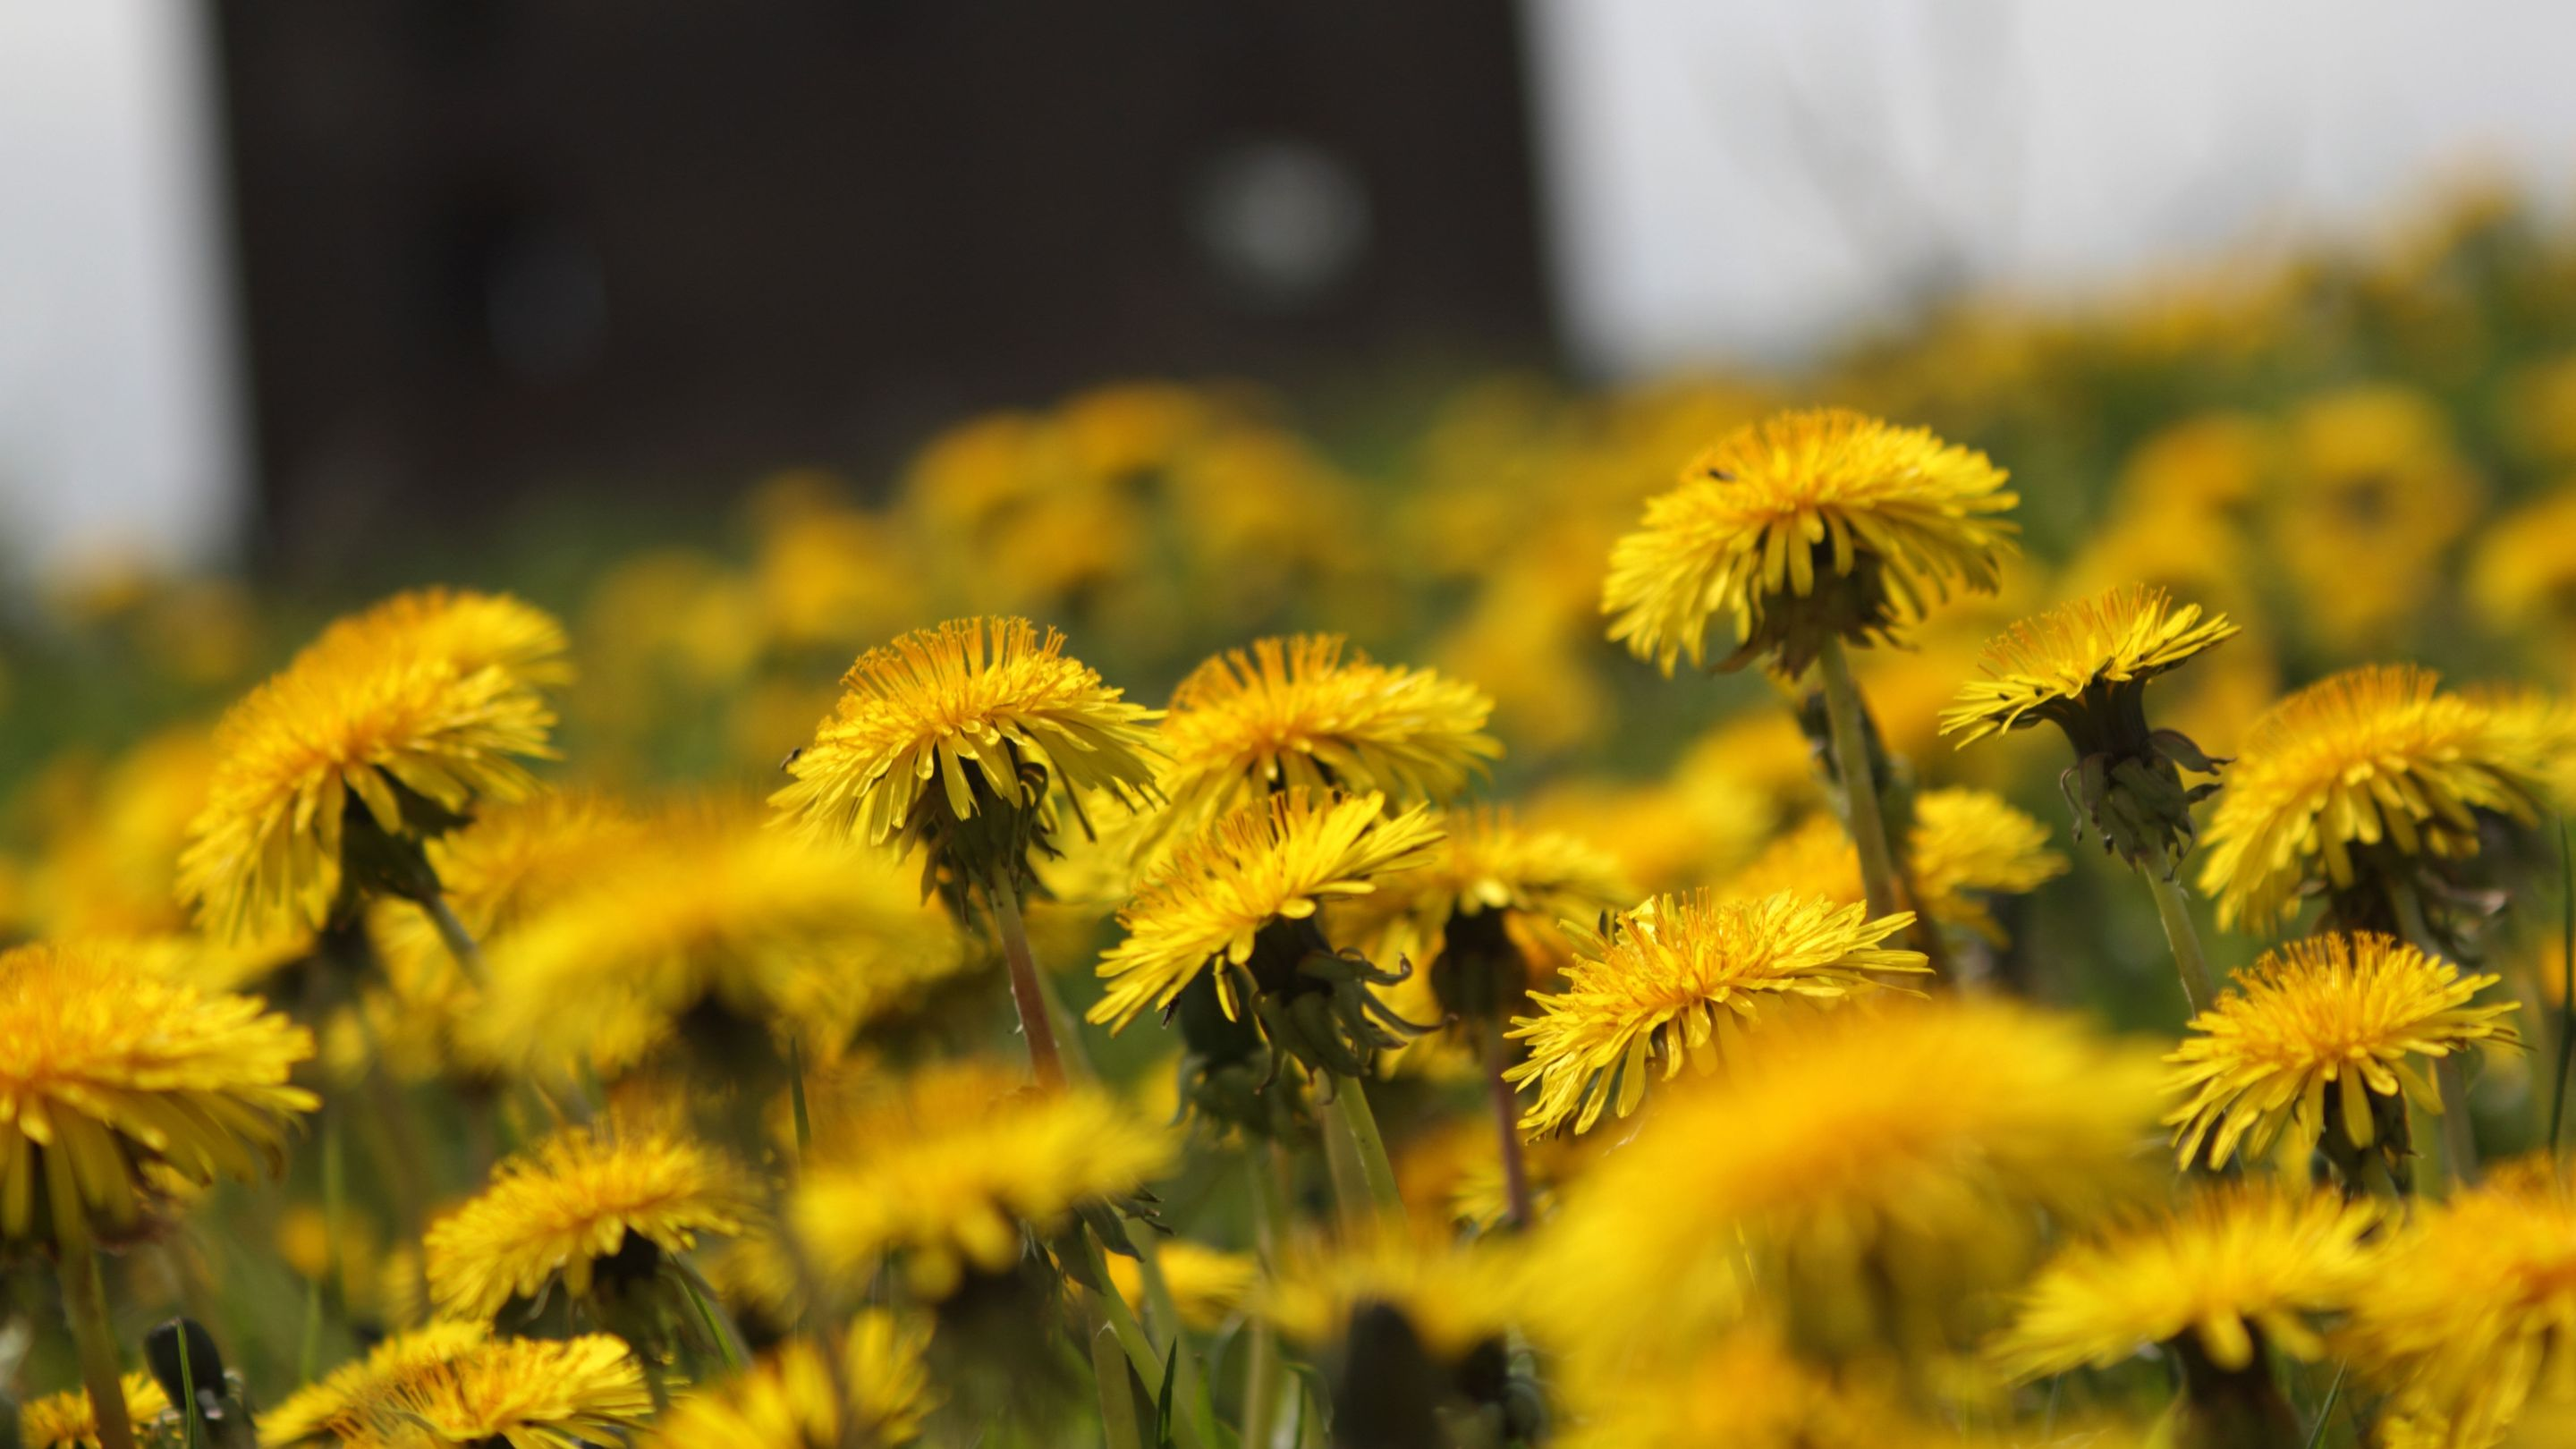dandelion: (1589, 396, 2003, 676), (1516, 869, 1904, 1108), (2, 959, 326, 1228), (198, 573, 508, 849), (2220, 640, 2546, 885), (1150, 626, 1525, 823), (2143, 922, 2475, 1134), (780, 660, 1155, 847), (221, 1309, 635, 1449), (433, 1136, 755, 1313), (1095, 840, 1461, 984), (1974, 563, 2220, 775)
